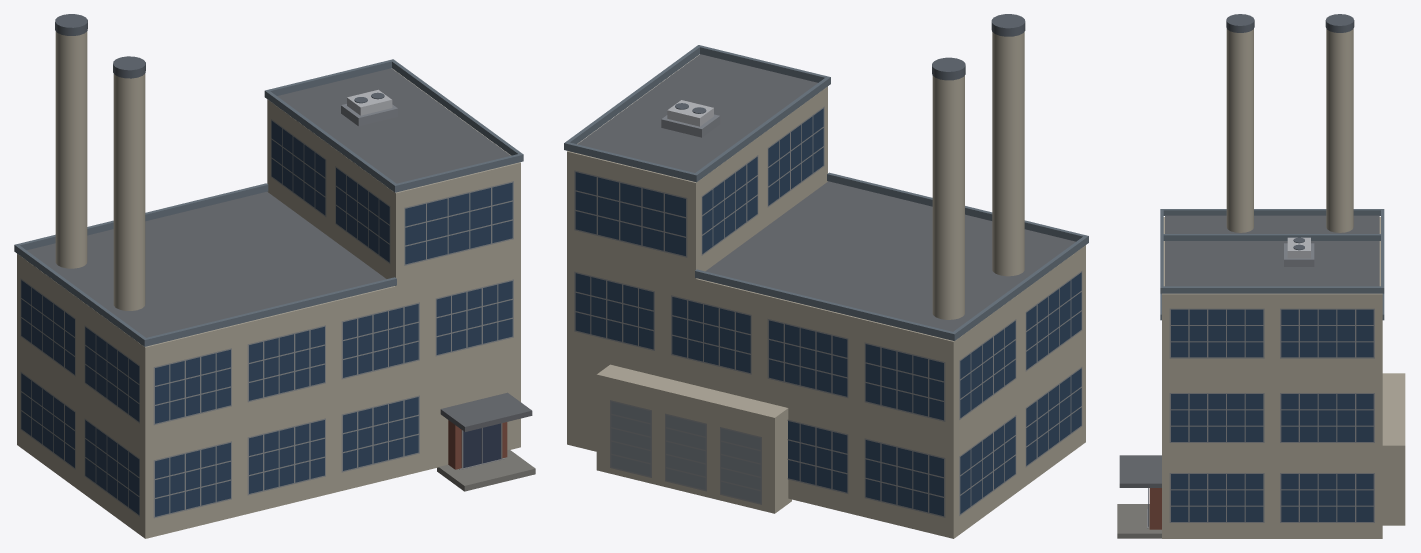
Rendered from civic_bauhaus_lvl1.glb.
3 renders of one model, left to right at view 1: azimuth 30°, elevation 25°; view 2: azimuth 150°, elevation 25°; view 3: azimuth 270°, elevation 25°, orthographic. The views are drawn at different scales.
Parts seen in each view (by area): view 1: civic_bauhaus; view 2: civic_bauhaus; view 3: civic_bauhaus.
Boxes of the visible parts, box(x1,y1,x2,y2) form: civic_bauhaus: box(14, 14, 535, 538); civic_bauhaus: box(564, 14, 1088, 538); civic_bauhaus: box(1117, 14, 1405, 538).
Bounding box in the file's own units: 1 × 1.11 × 0.7692.
